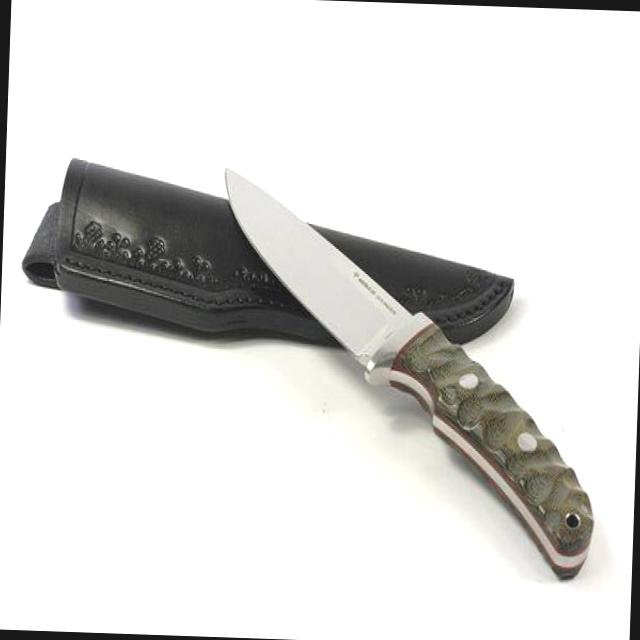knife: (210, 152, 433, 394)
